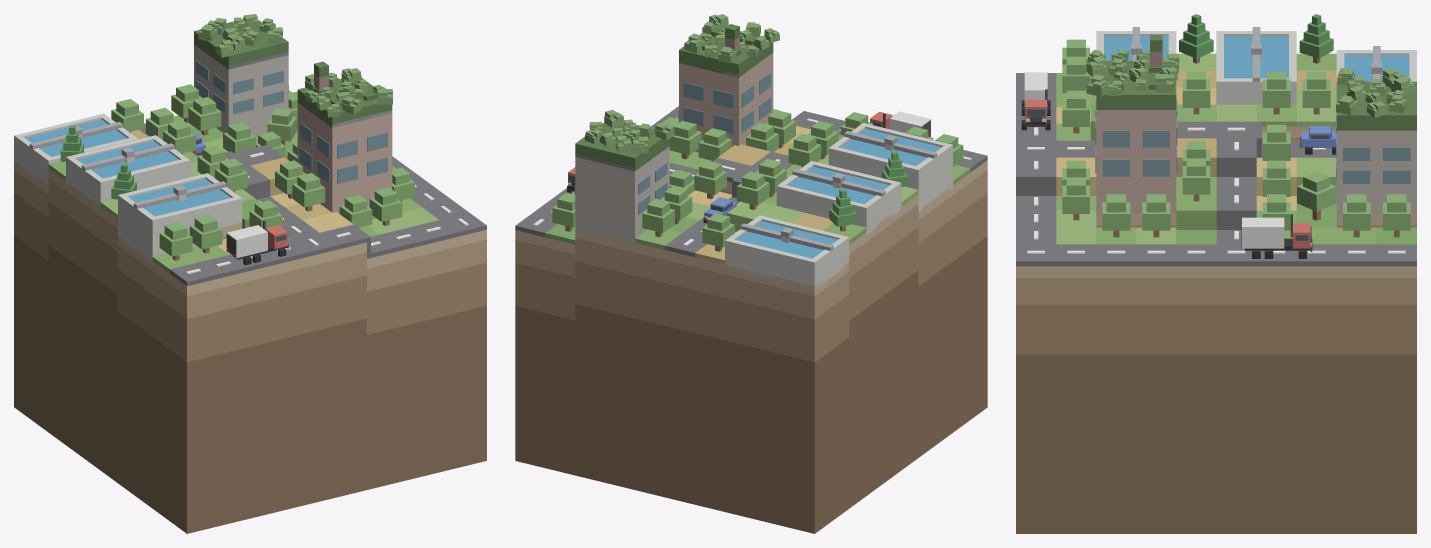
The model's file is block_12_greenroof_20.glb.
The picture shows the model from 3 angles, left to right: view 1: azimuth 30°, elevation 25°; view 2: azimuth 150°, elevation 25°; view 3: azimuth 270°, elevation 25°; orthographic projection. The views are drawn at different scales.
Parts seen in each view (by area): view 1: Patch_LowerLeft_b11_GR, Tanks_LowerLeft_GR, Factories_LowerLeft_b11_GR, Roads_LowerLeft_b11_GR, Ground_LowerLeft_b11_GR, GR_Roof_Factories_LowerLeft_b11_GR, Asset_Truck.006_GR, Asset_Tree_Round.075_GR, Asset_Tree_Round.103_GR, Asset_Tree_Round.106_GR, Asset_Tree_Round.107_GR, Asset_Tree_Round.110_GR (+14 smaller); view 2: Patch_LowerLeft_b11_GR, Tanks_LowerLeft_GR, Factories_LowerLeft_b11_GR, Ground_LowerLeft_b11_GR, Roads_LowerLeft_b11_GR, GR_Roof_Factories_LowerLeft_b11_GR, Asset_Tree_Round.078_GR, Asset_Truck.006_GR, Asset_Tree_Round.073_GR, Asset_Tree_Round.081_GR, Asset_Tree_Round.092_GR, Asset_Tree_Round.090_GR (+10 smaller); view 3: Patch_LowerLeft_b11_GR, Roads_LowerLeft_b11_GR, Ground_LowerLeft_b11_GR, Factories_LowerLeft_b11_GR, Tanks_LowerLeft_GR, GR_Roof_Factories_LowerLeft_b11_GR, Asset_Truck.005_GR, Asset_Truck.006_GR, RoadLines_LowerLeft_b11_GR, Asset_Tree_Round.059_GR, Asset_Tree_Pine.001_GR, Asset_Tree_Pine.003_GR (+18 smaller).
Boxes of the visible parts, bbox=[...] form: Patch_LowerLeft_b11_GR: bbox=[14, 137, 486, 533]; Tanks_LowerLeft_GR: bbox=[14, 113, 242, 263]; Factories_LowerLeft_b11_GR: bbox=[194, 44, 392, 213]; Roads_LowerLeft_b11_GR: bbox=[139, 123, 486, 286]; Ground_LowerLeft_b11_GR: bbox=[48, 115, 438, 273]; GR_Roof_Factories_LowerLeft_b11_GR: bbox=[194, 19, 392, 127]; Asset_Truck.006_GR: bbox=[226, 220, 288, 265]; Asset_Tree_Round.075_GR: bbox=[188, 97, 221, 135]; Asset_Tree_Round.103_GR: bbox=[292, 173, 325, 211]; Asset_Tree_Round.106_GR: bbox=[159, 222, 192, 260]; Asset_Tree_Round.107_GR: bbox=[189, 215, 222, 253]; Asset_Tree_Round.110_GR: bbox=[369, 187, 402, 225]; Patch_LowerLeft_b11_GR: bbox=[515, 160, 987, 533]; Tanks_LowerLeft_GR: bbox=[725, 123, 952, 289]; Factories_LowerLeft_b11_GR: bbox=[575, 36, 773, 245]; Ground_LowerLeft_b11_GR: bbox=[545, 126, 970, 264]; Roads_LowerLeft_b11_GR: bbox=[515, 106, 987, 257]; GR_Roof_Factories_LowerLeft_b11_GR: bbox=[575, 24, 773, 170]; Asset_Tree_Round.078_GR: bbox=[736, 171, 769, 209]; Asset_Truck.006_GR: bbox=[870, 111, 930, 136]; Asset_Tree_Round.073_GR: bbox=[642, 198, 674, 236]; Asset_Tree_Round.081_GR: bbox=[694, 160, 726, 199]; Asset_Tree_Round.092_GR: bbox=[669, 120, 701, 159]; Asset_Tree_Round.090_GR: bbox=[788, 133, 821, 167]; Patch_LowerLeft_b11_GR: bbox=[1016, 126, 1416, 533]; Roads_LowerLeft_b11_GR: bbox=[1016, 73, 1416, 266]; Ground_LowerLeft_b11_GR: bbox=[1056, 53, 1416, 244]; Factories_LowerLeft_b11_GR: bbox=[1095, 51, 1416, 213]; Tanks_LowerLeft_GR: bbox=[1096, 27, 1416, 104]; GR_Roof_Factories_LowerLeft_b11_GR: bbox=[1096, 35, 1416, 130]; Asset_Truck.005_GR: bbox=[1241, 214, 1312, 258]; Asset_Truck.006_GR: bbox=[1021, 72, 1050, 130]; RoadLines_LowerLeft_b11_GR: bbox=[1027, 127, 1405, 253]; Asset_Tree_Round.059_GR: bbox=[1297, 171, 1336, 220]; Asset_Tree_Pine.001_GR: bbox=[1179, 14, 1213, 63]; Asset_Tree_Pine.003_GR: bbox=[1299, 14, 1333, 63].
Bounding box in the file's own units: 9.5 × 11.43 × 9.5.
